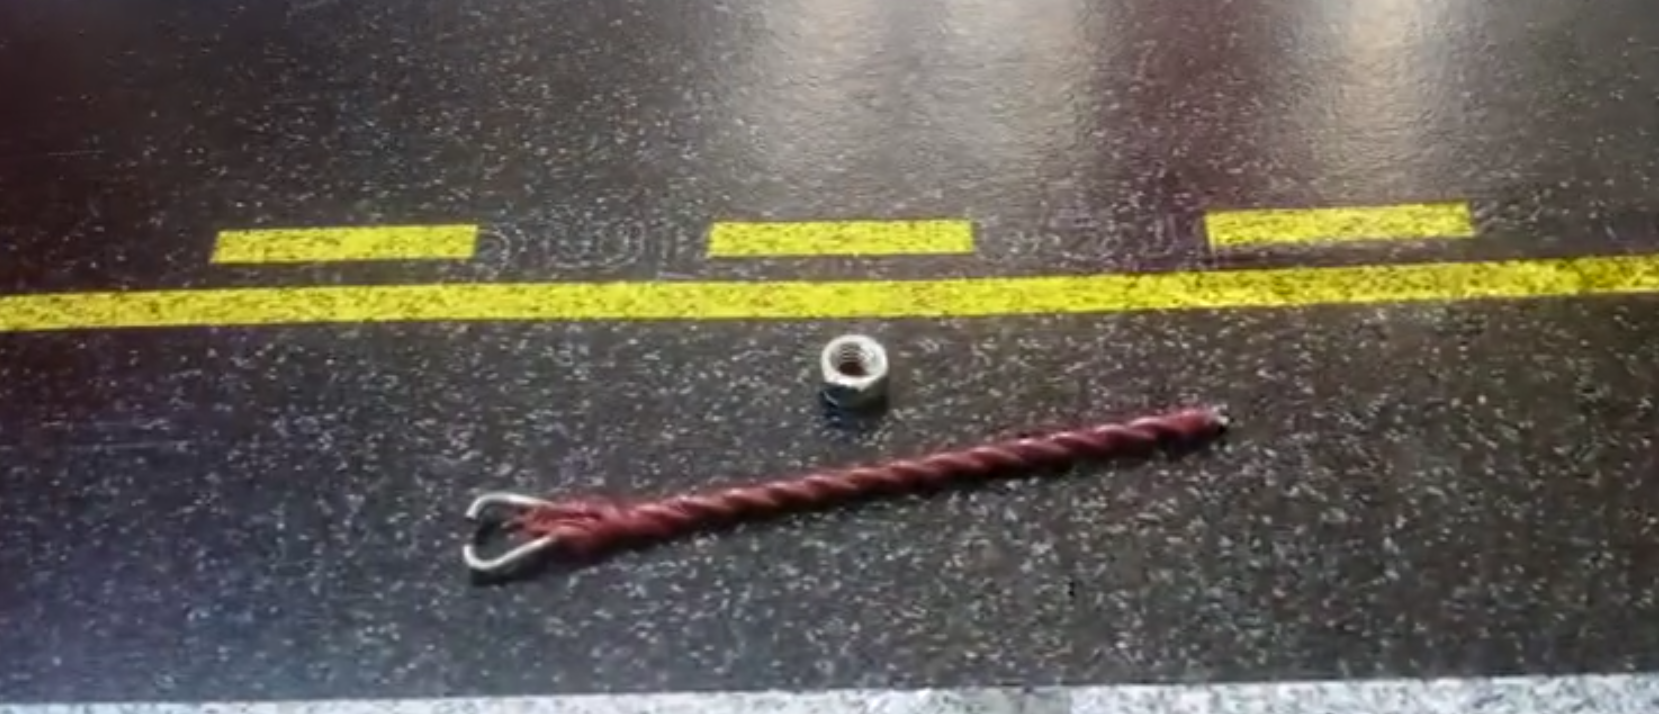metal: (416, 403, 1236, 614), (806, 332, 896, 415)
